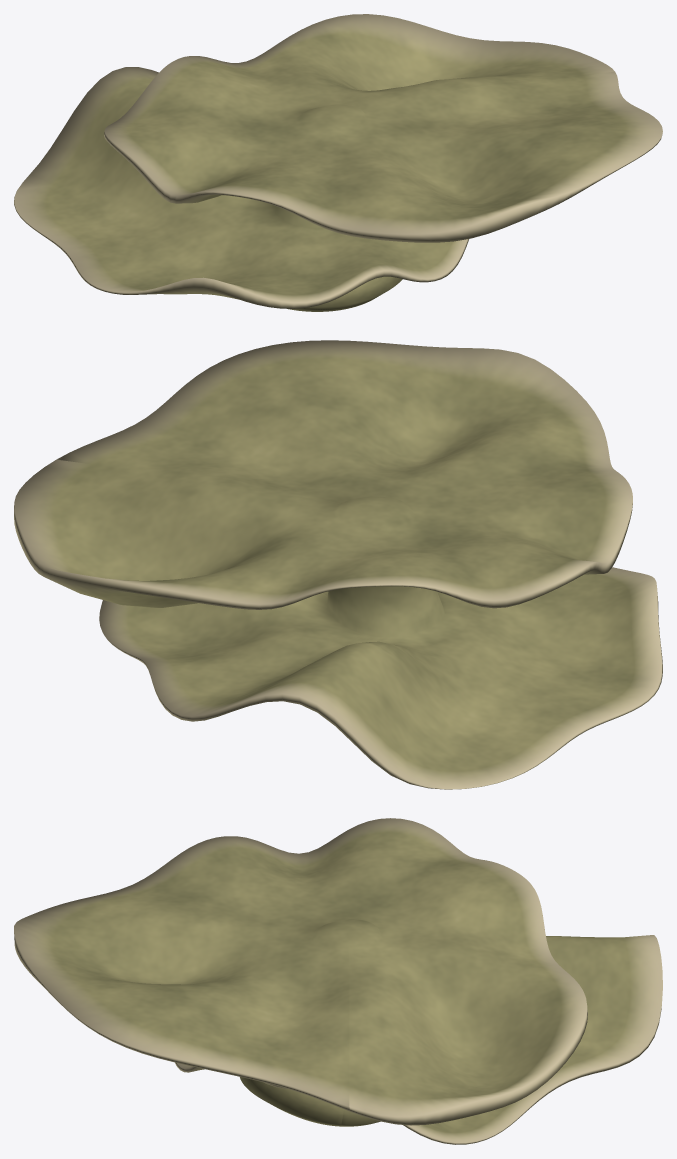
Rendered from plate_v6_cup_lod0.glb.
3 views of the same model, one above another, from view 1: azimuth 30°, elevation 25°; view 2: azimuth 150°, elevation 25°; view 3: azimuth 270°, elevation 25° (orthographic). The views are drawn at different scales.
Visible parts, largest first — view 1: plate_v6_folds_cup_LOD0; view 2: plate_v6_folds_cup_LOD0; view 3: plate_v6_folds_cup_LOD0.
Boxes of the visible parts, x1,y1,x2,y2 form: plate_v6_folds_cup_LOD0: [14, 14, 662, 311]; plate_v6_folds_cup_LOD0: [14, 340, 662, 789]; plate_v6_folds_cup_LOD0: [14, 818, 662, 1144].
Bounding box in the file's own units: 1.14 × 0.35 × 1.13.
Materials: 1 (1 with a texture image).
